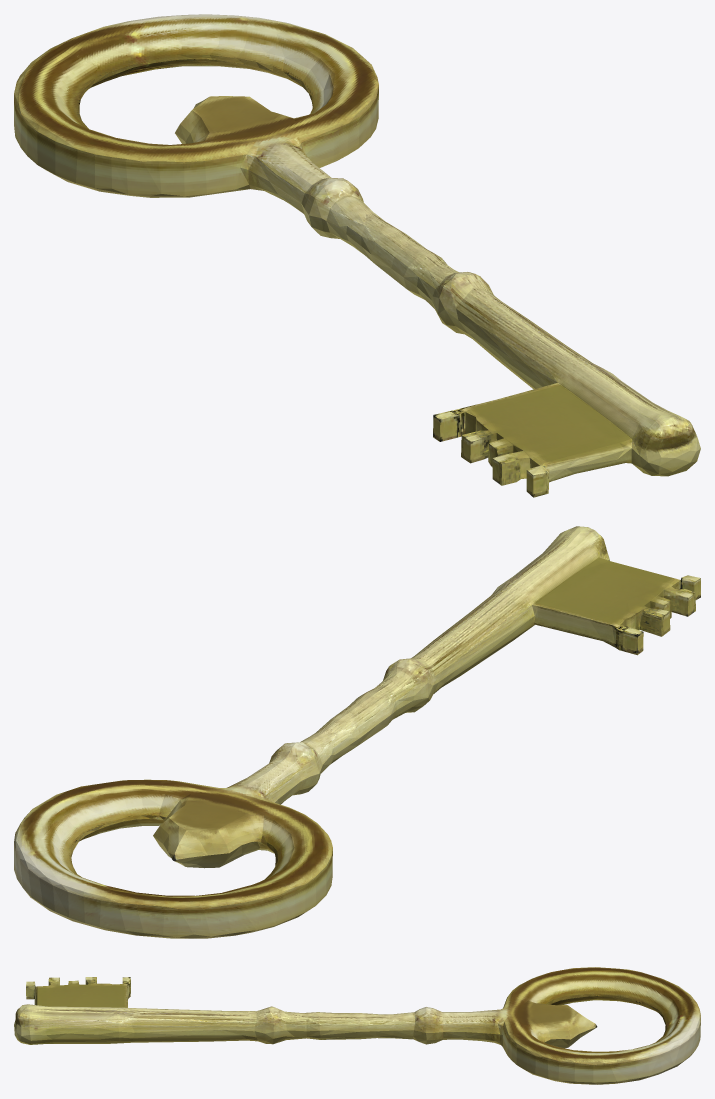
Rendered from key.glb.
The picture shows the model from 3 angles, top to bottom: view 1: azimuth 30°, elevation 25°; view 2: azimuth 150°, elevation 25°; view 3: azimuth 270°, elevation 25°; orthographic projection. The views are drawn at different scales.
Visible parts, largest first — view 1: world; view 2: world; view 3: world.
Boxes of the visible parts, box(x1,y1,x2,y2) form: world: box(14, 14, 700, 497); world: box(14, 526, 700, 938); world: box(14, 967, 700, 1084).
Bounding box in the file's own units: 0.3282 × 0.0598 × 1.
Materials: 1 (1 with a texture image).
